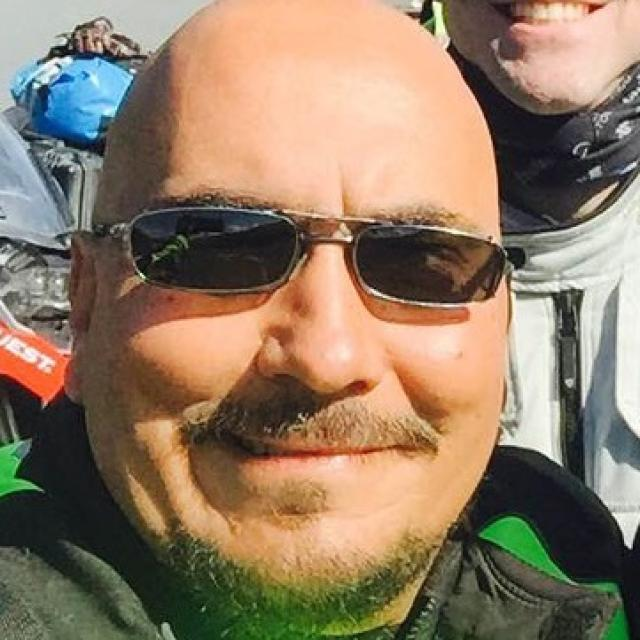Normal: (81, 0, 511, 620)
